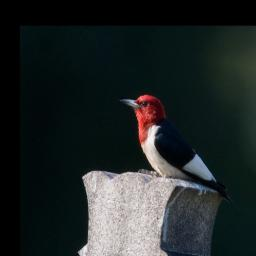Woodpecker: (105, 86, 249, 210)
